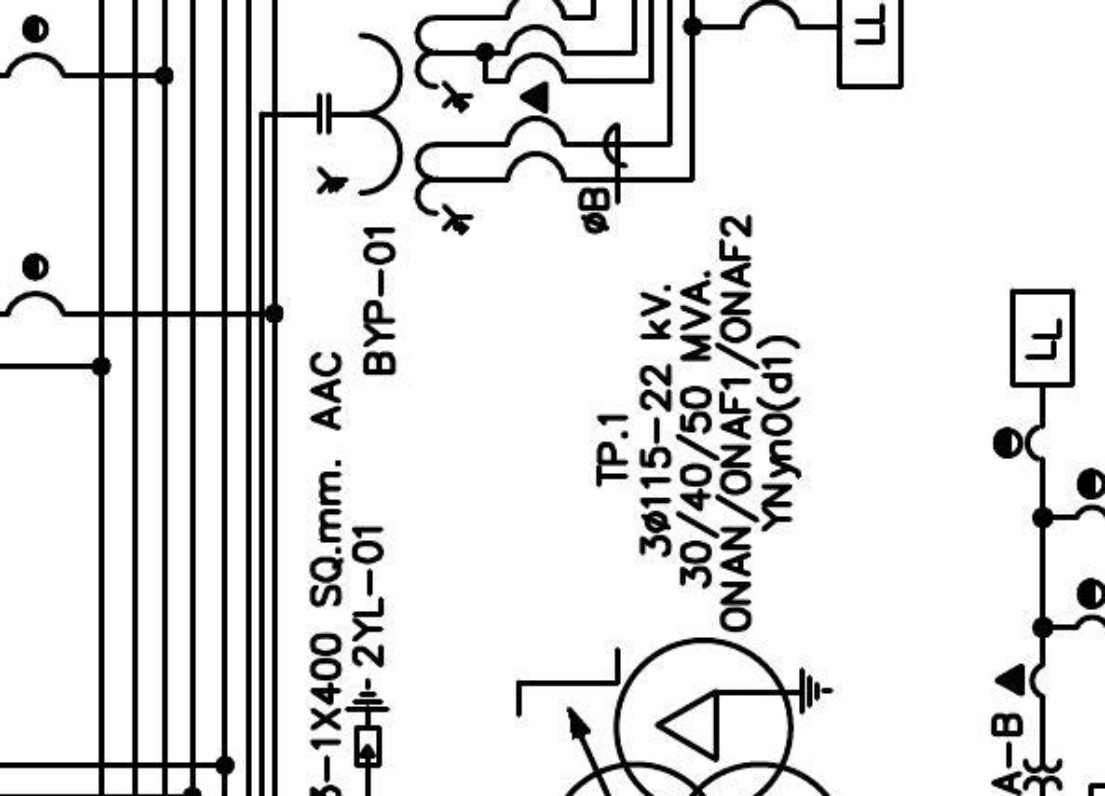115_cvt_3p: (316, 14, 475, 238)
115_la: (344, 677, 392, 769)
LL: (1010, 288, 1076, 388)
